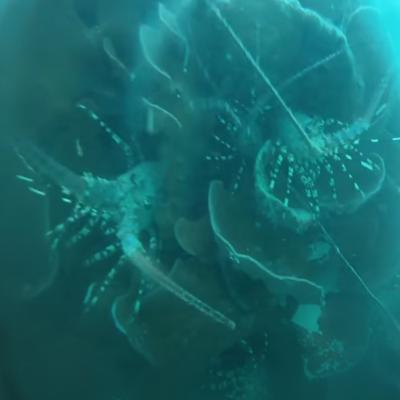lobster: (104, 156, 182, 256), (276, 108, 347, 195), (227, 106, 263, 169)
